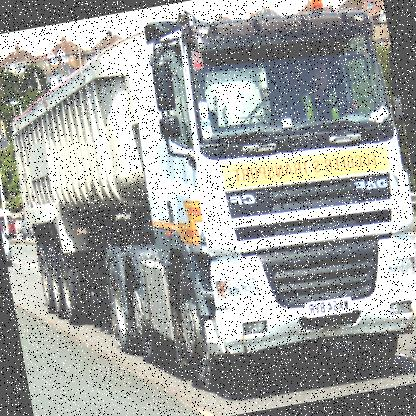Car: (0, 211, 17, 263), (0, 211, 18, 242), (18, 212, 34, 240), (17, 232, 28, 240)
